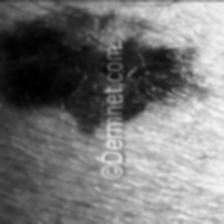Potentially Malignant Skin Tumors: (0, 9, 101, 125), (125, 27, 201, 120)
